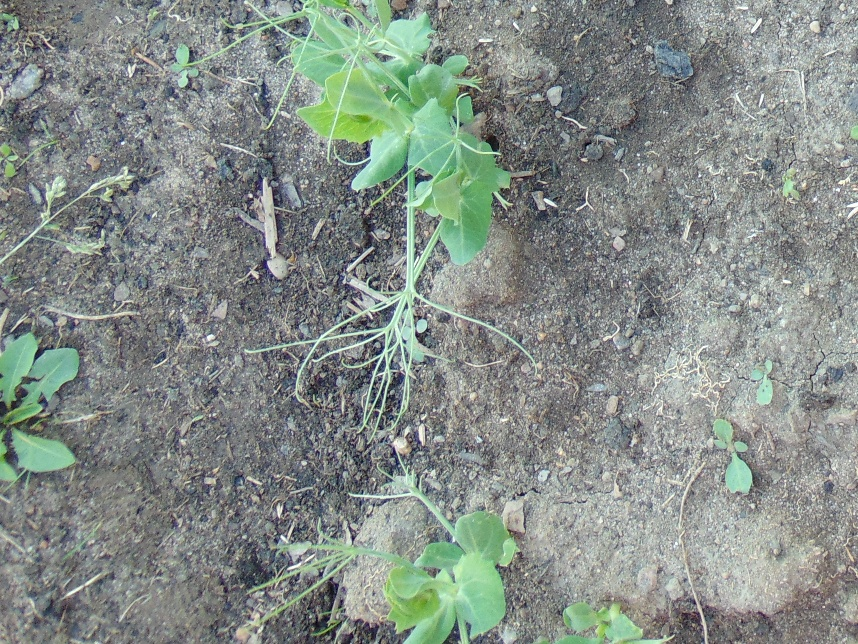crop: (252, 5, 512, 382), (302, 466, 519, 644), (552, 602, 677, 644)
weed: (1, 334, 80, 480), (706, 420, 759, 493), (752, 360, 777, 405), (171, 43, 196, 88), (1, 136, 25, 181)
